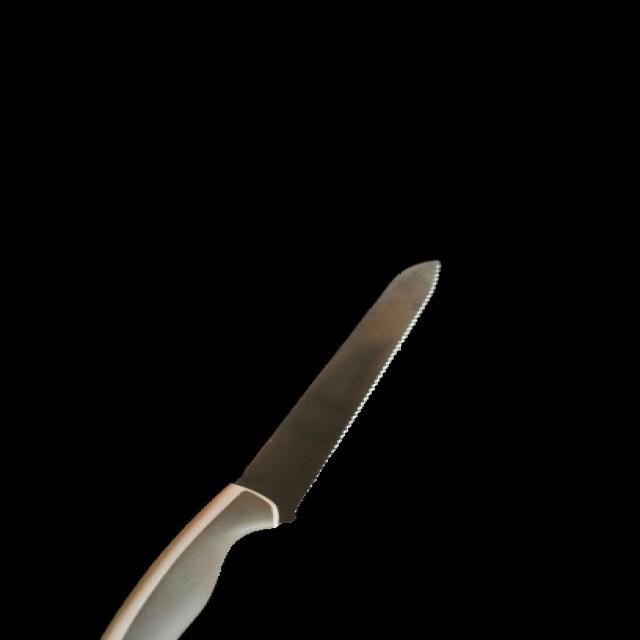knife: (92, 249, 457, 639)
